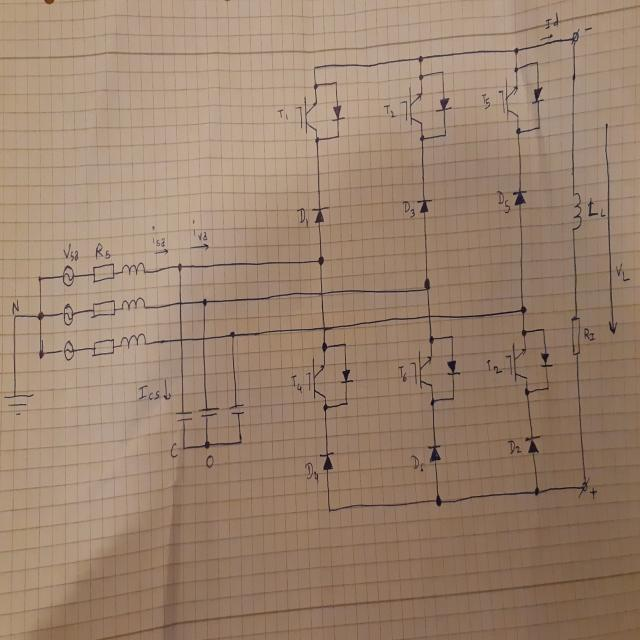capacitor: (198, 406, 220, 420), (175, 409, 193, 424), (229, 402, 245, 417)
crossover: (318, 289, 324, 298), (426, 313, 432, 320), (201, 334, 206, 342), (322, 323, 327, 331), (178, 298, 182, 306), (180, 337, 184, 343)
diode: (524, 432, 542, 457), (312, 204, 329, 226), (530, 84, 545, 108), (512, 187, 528, 209), (427, 442, 442, 465), (434, 96, 452, 114), (330, 104, 346, 124), (538, 349, 553, 370), (320, 450, 334, 472), (446, 358, 460, 378), (417, 197, 432, 214), (340, 367, 353, 385)
ground: (3, 389, 34, 415)
inductor: (569, 190, 583, 233), (119, 332, 147, 350), (120, 297, 146, 313), (121, 262, 146, 277)
junction: (433, 494, 443, 508), (422, 278, 430, 292), (204, 438, 211, 451), (37, 310, 44, 322), (533, 486, 540, 498), (321, 341, 328, 352), (417, 54, 424, 64), (520, 304, 526, 315), (515, 126, 521, 137), (318, 255, 324, 266), (202, 297, 208, 307), (230, 330, 236, 340), (428, 334, 434, 344), (238, 436, 244, 446), (524, 387, 530, 397), (322, 402, 328, 412), (39, 348, 44, 359), (176, 262, 182, 271), (513, 46, 519, 55), (521, 328, 527, 337), (419, 134, 425, 143), (314, 136, 320, 145), (312, 81, 318, 90), (181, 443, 187, 452), (430, 396, 435, 406), (418, 73, 424, 81), (37, 274, 42, 282), (344, 399, 349, 407), (440, 68, 445, 76), (312, 64, 317, 72), (327, 506, 332, 514), (342, 340, 347, 348), (541, 326, 546, 333), (545, 384, 550, 391), (336, 132, 340, 140), (514, 65, 518, 73), (537, 123, 541, 131), (451, 394, 455, 402), (13, 313, 18, 319), (334, 79, 338, 86), (450, 333, 454, 340), (535, 59, 539, 66), (443, 131, 447, 138)
resistor: (570, 313, 582, 357), (92, 262, 115, 284), (92, 298, 116, 318), (92, 338, 115, 357)
source: (61, 264, 74, 288), (62, 303, 74, 327), (63, 340, 75, 362)
terminal: (576, 476, 590, 500), (569, 27, 581, 46)
text: (586, 195, 607, 222), (136, 380, 160, 402), (191, 217, 208, 243), (150, 224, 166, 249), (304, 458, 319, 484), (544, 9, 560, 32), (496, 188, 510, 214), (614, 261, 630, 283), (486, 358, 504, 376), (63, 243, 79, 262), (296, 206, 309, 229), (95, 242, 111, 260), (410, 454, 425, 473), (402, 198, 415, 219), (506, 439, 522, 456), (290, 373, 303, 393), (275, 106, 289, 123), (480, 91, 491, 111), (398, 364, 408, 384), (383, 103, 395, 119), (583, 327, 596, 341), (11, 297, 20, 315), (588, 484, 598, 500), (169, 442, 178, 459), (205, 453, 214, 468), (584, 23, 592, 33)
transistor: (409, 348, 434, 393), (497, 76, 521, 122), (304, 356, 326, 402), (399, 86, 423, 128), (505, 342, 529, 382), (295, 94, 318, 135)
